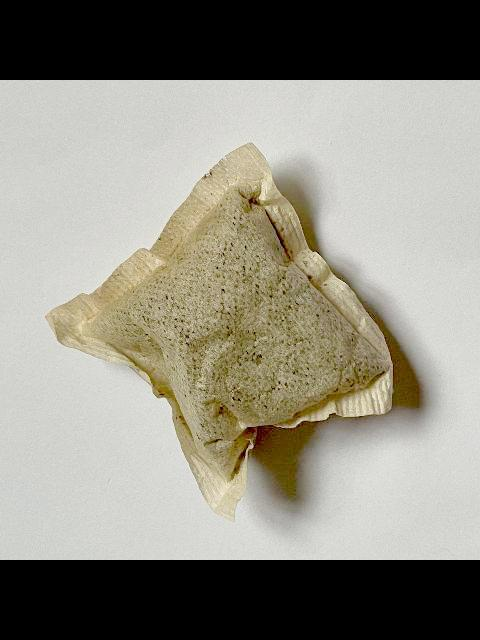teabag: (42, 141, 394, 523)
